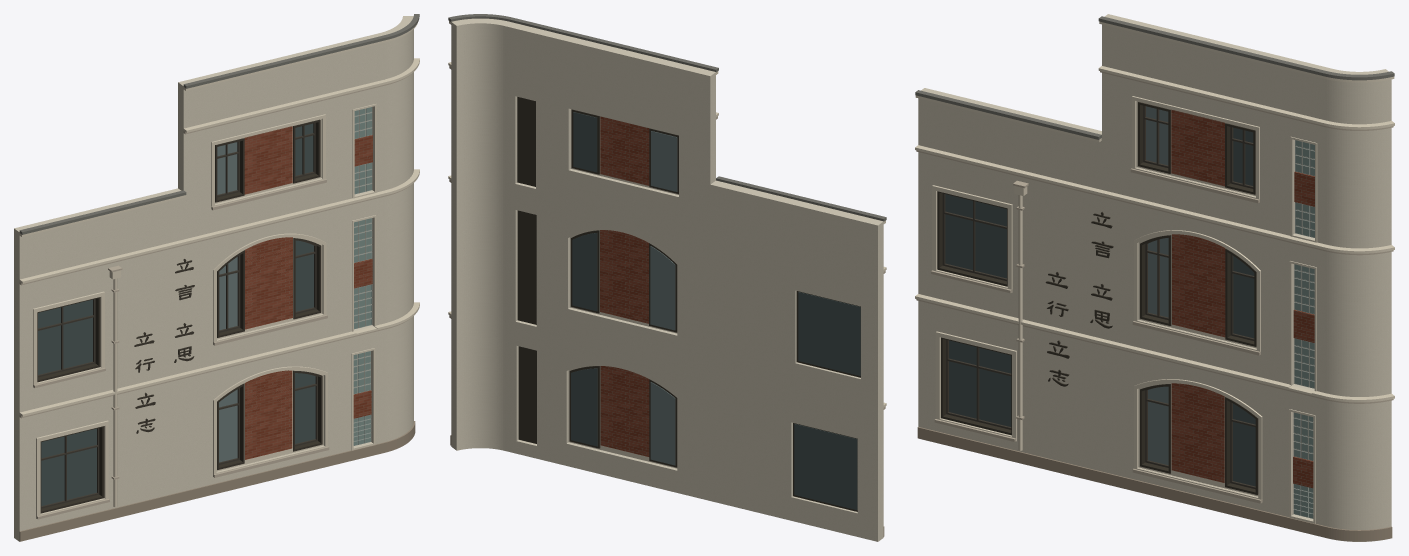
Rendered from full-source.glb.
The picture shows the model from 3 angles, left to right: view 1: azimuth 30°, elevation 25°; view 2: azimuth 150°, elevation 25°; view 3: azimuth 330°, elevation 25°; orthographic projection. The views are drawn at different scales.
Parts seen in each view (by area): view 1: 建国西路629号住宅花园立面; view 2: 建国西路629号住宅花园立面; view 3: 建国西路629号住宅花园立面.
Part boxes in pixels (bbox=[...]): 建国西路629号住宅花园立面: bbox=[14, 14, 419, 541]; 建国西路629号住宅花园立面: bbox=[448, 14, 886, 541]; 建国西路629号住宅花园立面: bbox=[915, 14, 1394, 541].
Size of the model in its own units: 10.6 by 10.24 by 0.9331.
Materials: 13 (2 with a texture image).
